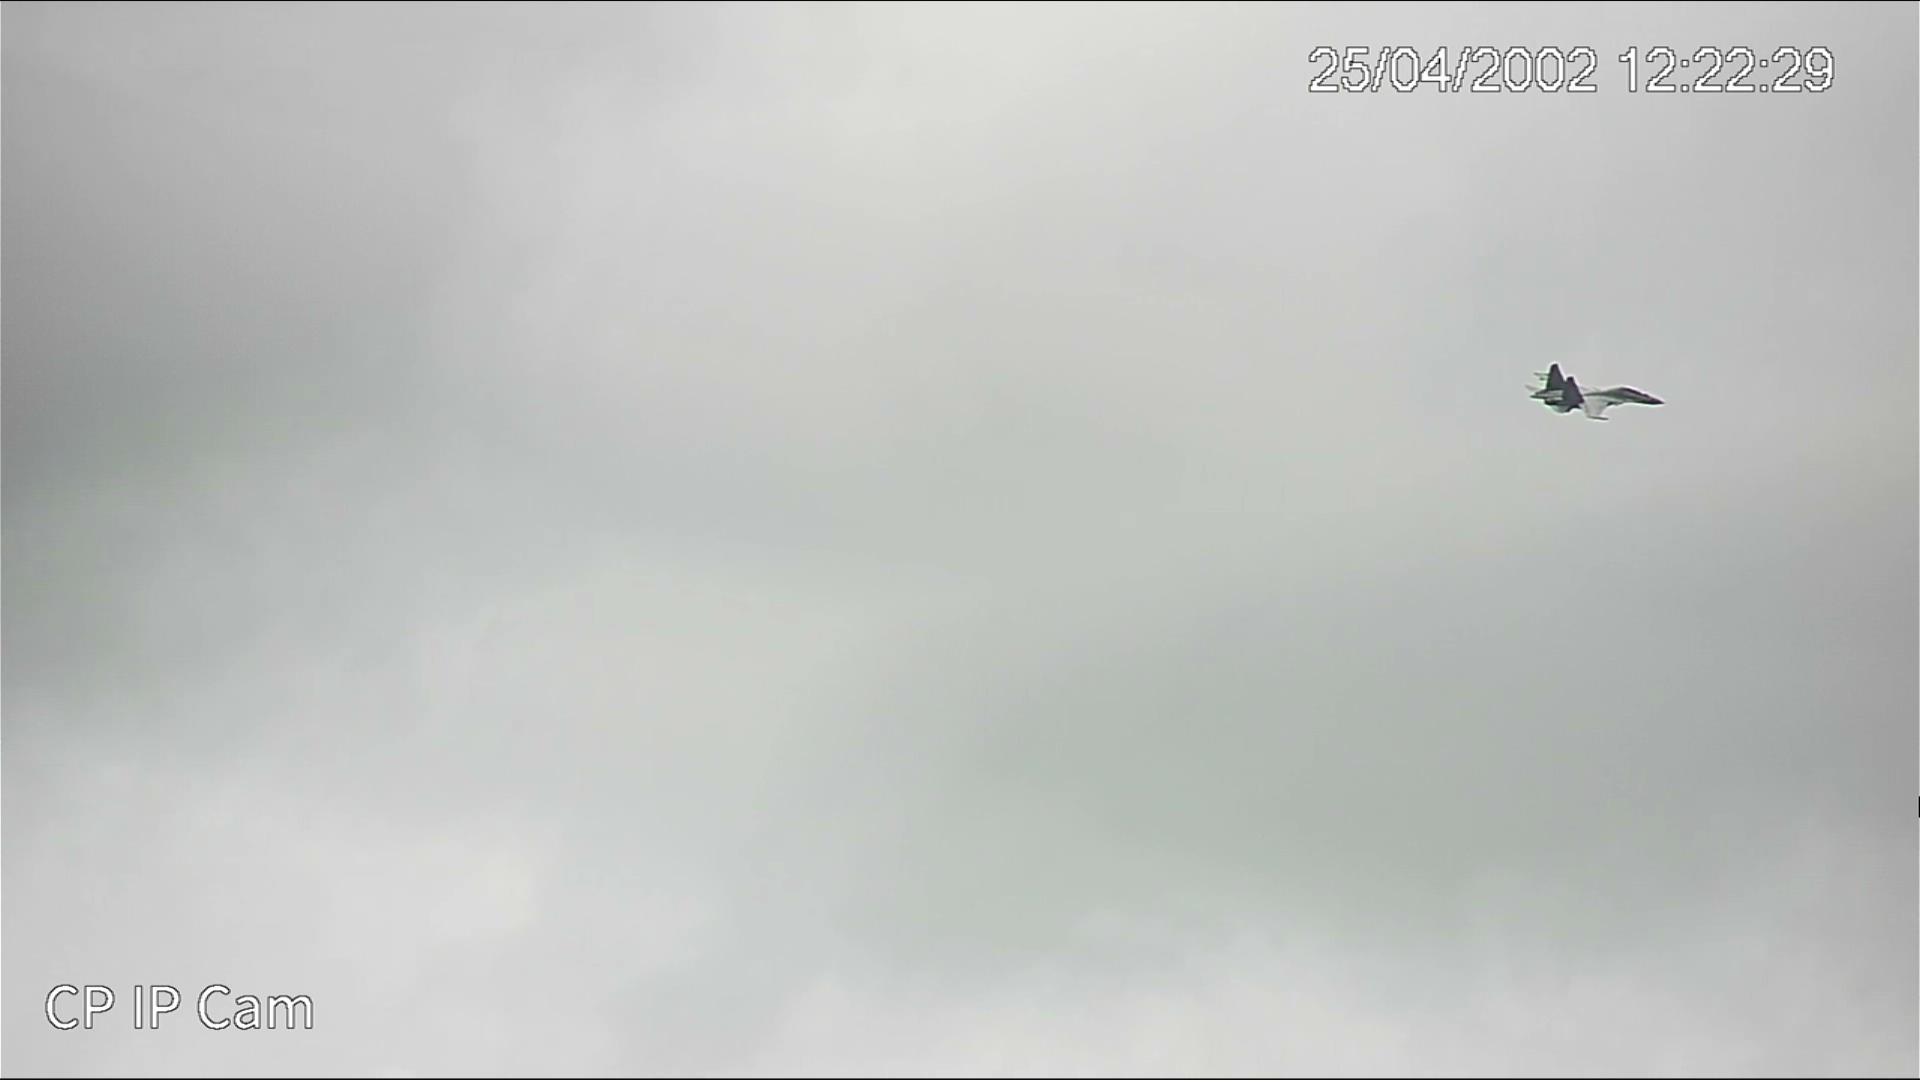SU_30: (1527, 365, 1665, 425)
